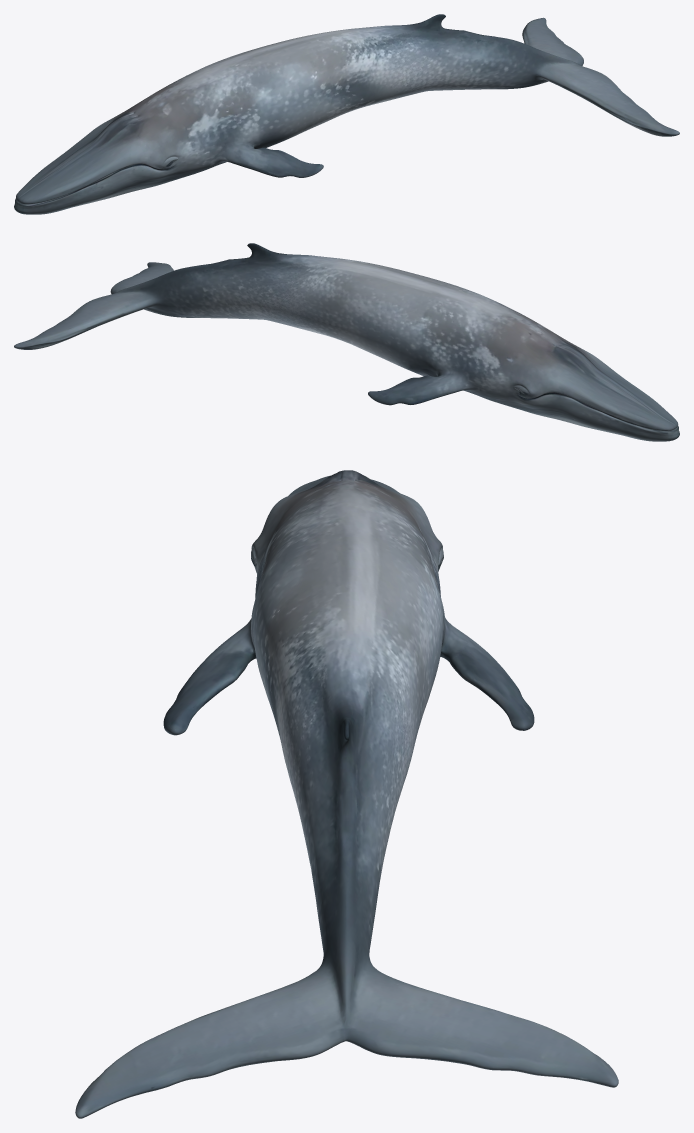
Rendered from blue-whale.glb.
3 views of the same model, one above another, from view 1: azimuth 30°, elevation 25°; view 2: azimuth 150°, elevation 25°; view 3: azimuth 270°, elevation 25° (orthographic). The views are drawn at different scales.
Visible parts, largest first — view 1: node_0; view 2: node_0; view 3: node_0.
Boxes of the visible parts, x1=… form: node_0: x1=14, y1=14, x2=679, y2=214; node_0: x1=14, y1=243, x2=679, y2=441; node_0: x1=75, y1=470, x2=618, y2=1118.
Bounding box in the file's own units: 1.1 × 0.2128 × 0.4348.
1 material, 1 textured.
